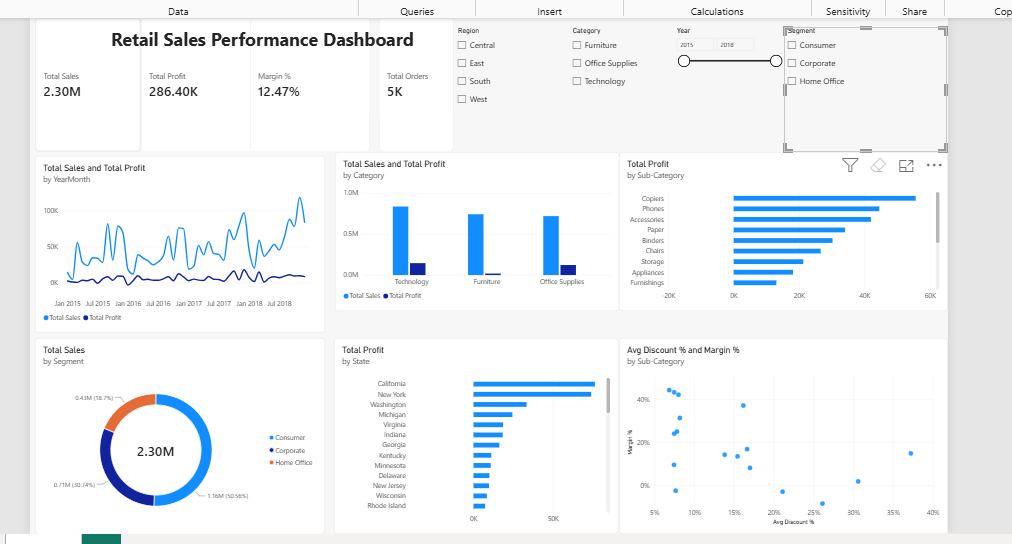

What the dashboard file says about the page in this screenshot:
{"tool":"powerbi","page":{"name":"Page 1","canvas":[1920,1080],"ordinal":0},"visuals":[{"type":"cardVisual","fields":{"Data":["superstore_clean.Total Sales"]},"box":[10.1,0,221.7,279.7],"z":0},{"type":"cardVisual","fields":{"Data":["superstore_clean.Total Profit"]},"box":[231.8,0,282.2,279.7],"z":1},{"type":"cardVisual","fields":{"Data":["Sum(superstore_clean.Profit Margin %)"]},"box":[461.1,0,252,279.7],"z":2},{"type":"cardVisual","fields":{"Data":["superstore_clean.Total Orders"]},"box":[730.7,0,156.2,279.7],"z":3},{"type":"lineChart","fields":{"Category":["superstore_clean.Order Date"],"Y":["superstore_clean.Total Sales","superstore_clean.Total Profit"]},"box":[10.1,289.8,607.2,370.4],"z":4},{"type":"clusteredColumnChart","fields":{"Category":["superstore_clean.Category"],"Y":["superstore_clean.Total Sales","superstore_clean.Total Profit"]},"box":[637.5,279.7,594.6,332.6],"z":5},{"type":"clusteredBarChart","fields":{"Category":["superstore_clean.Sub-Category"],"Y":["superstore_clean.Total Profit"]},"box":[1232.1,279.7,687.9,332.6],"z":6},{"type":"donutChart","fields":{"Category":["superstore_clean.Segment"],"Y":["superstore_clean.Total Sales"]},"box":[10.1,670.2,607.2,410.7],"z":7},{"type":"clusteredBarChart","fields":{"Category":["superstore_clean.State"],"Y":["superstore_clean.Total Profit"]},"box":[637,670,595,410],"z":8},{"type":"scatterChart","fields":{"Category":["superstore_clean.Sub-Category"],"X":["superstore_clean.Avg Discount %"],"Y":["Sum(superstore_clean.Profit Margin %)"]},"box":[1232,670,688,410],"z":9},{"type":"slicer","fields":{"Values":["superstore_clean.Region"]},"box":[886.9,0,241.9,279.7],"z":10},{"type":"slicer","fields":{"Values":["superstore_clean.Category"]},"box":[1128.8,0,216.7,279.7],"z":11},{"type":"slicer","fields":{"Values":["superstore_clean.Year"]},"box":[1345.5,0,231.8,279.7],"z":12},{"type":"slicer","fields":{"Values":["superstore_clean.Segment"]},"box":[1578,0,342,280],"z":13},{"type":"textbox","box":[0,18.8,514.9,92.1],"z":14}]}

Visuals, with their boxes on the page's 1920x1080 design canvas (x1, y1, x2, y2). These are canvas units, not pixel positions in the 1012x544 screenshot, which may show the page scaled, cropped or inside an application window:
cardVisual - superstore_clean.Total Sales: 10, 0, 232, 280
cardVisual - superstore_clean.Total Profit: 232, 0, 514, 280
cardVisual - Sum(superstore_clean.Profit Margin %): 461, 0, 713, 280
cardVisual - superstore_clean.Total Orders: 731, 0, 887, 280
lineChart - superstore_clean.Order Date x superstore_clean.Total Sales: 10, 290, 617, 660
clusteredColumnChart - superstore_clean.Category x superstore_clean.Total Sales: 638, 280, 1232, 612
clusteredBarChart - superstore_clean.Sub-Category x superstore_clean.Total Profit: 1232, 280, 1920, 612
donutChart - superstore_clean.Segment x superstore_clean.Total Sales: 10, 670, 617, 1081
clusteredBarChart - superstore_clean.State x superstore_clean.Total Profit: 637, 670, 1232, 1080
scatterChart - superstore_clean.Sub-Category x superstore_clean.Avg Discount %: 1232, 670, 1920, 1080
slicer - superstore_clean.Region: 887, 0, 1129, 280
slicer - superstore_clean.Category: 1129, 0, 1346, 280
slicer - superstore_clean.Year: 1346, 0, 1577, 280
slicer - superstore_clean.Segment: 1578, 0, 1920, 280
textbox: 0, 19, 515, 111
